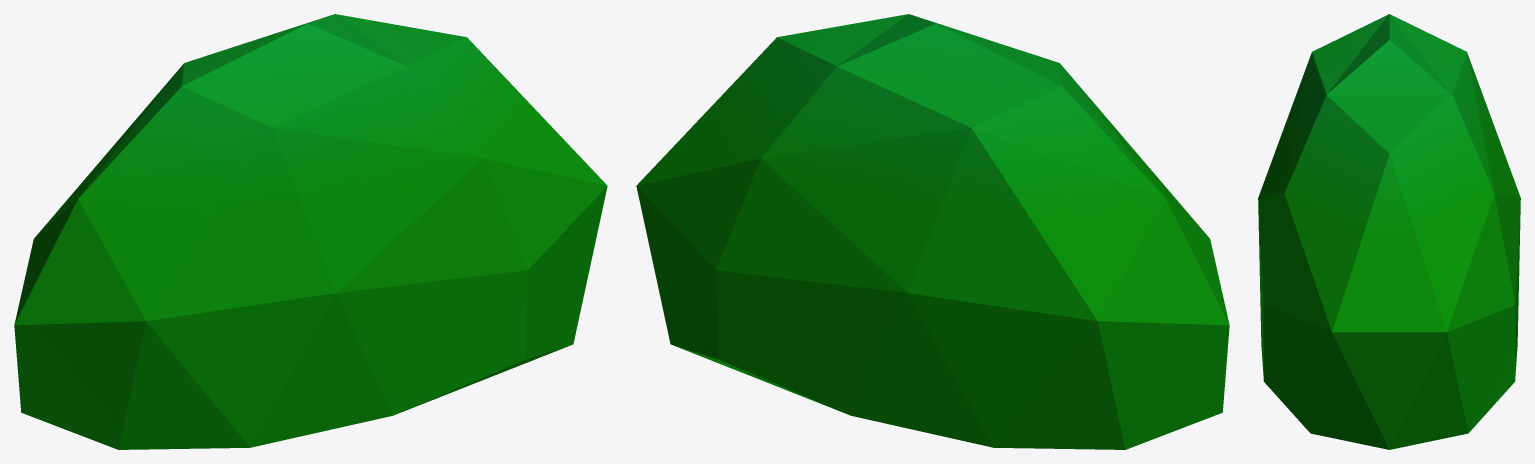
File: bush.fbx
3 renders of one model, left to right at view 1: azimuth 30°, elevation 25°; view 2: azimuth 150°, elevation 25°; view 3: azimuth 270°, elevation 25°, orthographic. The views are drawn at different scales.
Visible parts, largest first — view 1: bush; view 2: bush; view 3: bush.
Boxes of the visible parts, bbox=[...] form: bush: bbox=[14, 14, 607, 449]; bush: bbox=[636, 14, 1229, 449]; bush: bbox=[1258, 14, 1520, 449].
Size of the model in its own units: 3637 by 2246 by 1685.
